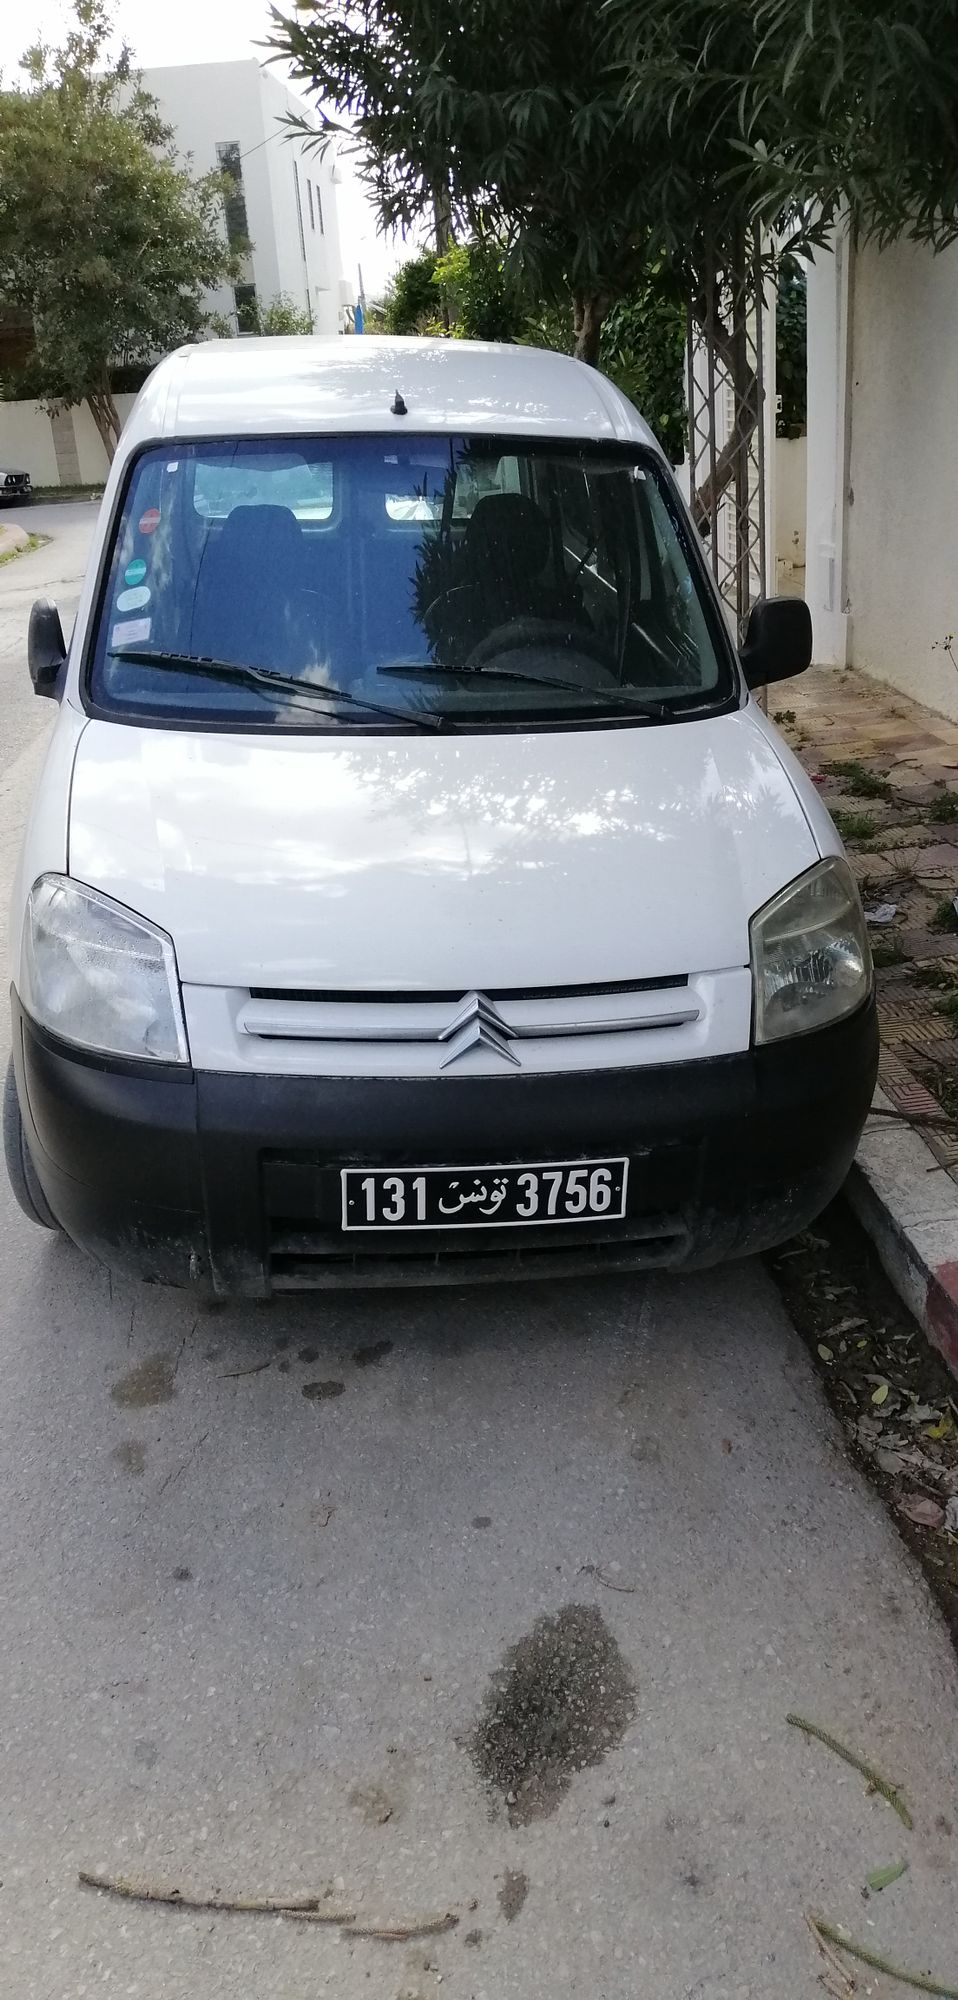LP: (333, 1148, 637, 1242)
